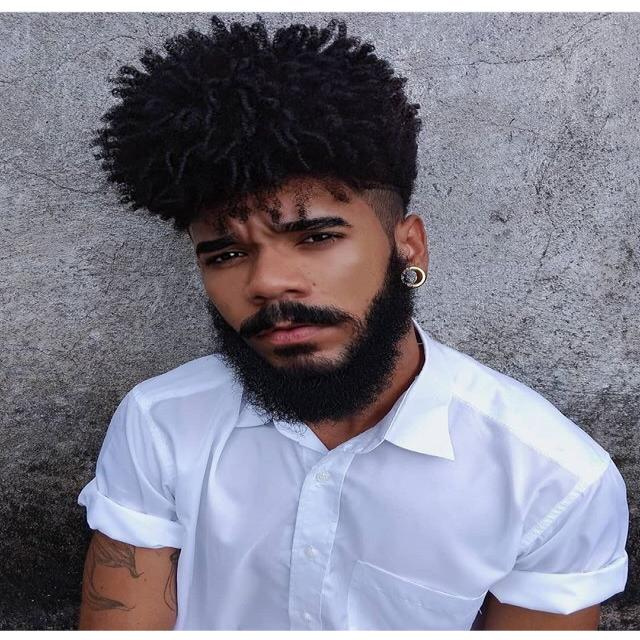sem_oculos: (165, 219, 409, 262)
